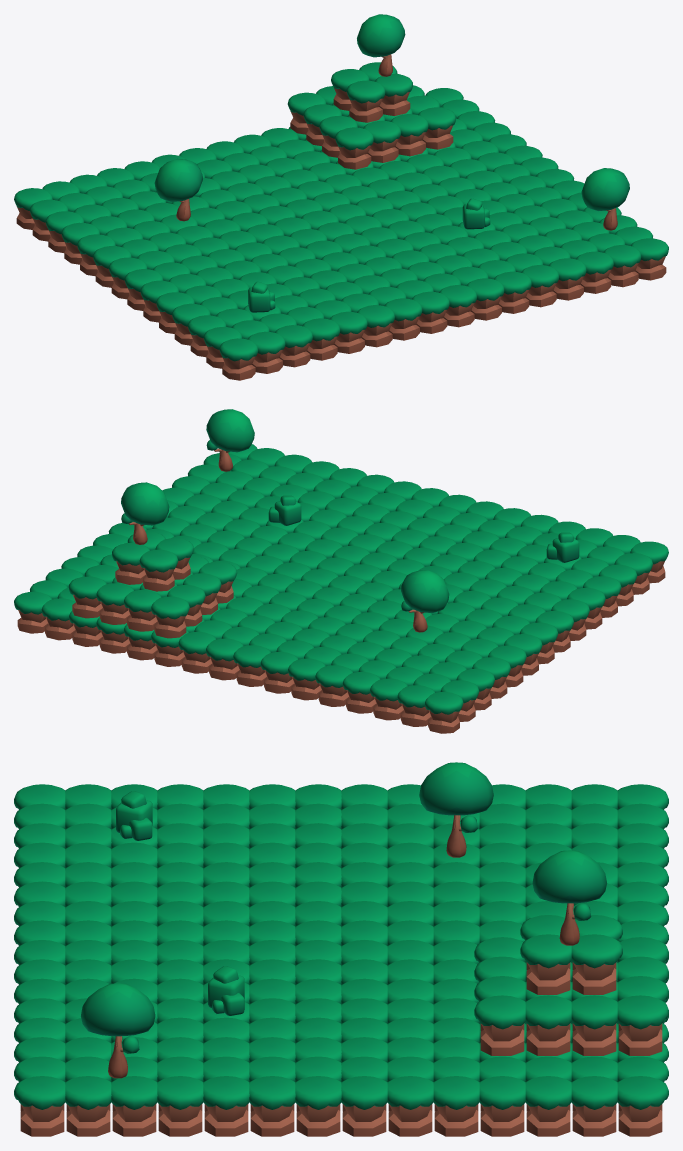
Rendered from scrubLandBiome.fbx.
3 renders of one model, top to bottom at view 1: azimuth 30°, elevation 25°; view 2: azimuth 150°, elevation 25°; view 3: azimuth 270°, elevation 25°, orthographic. The views are drawn at different scales.
Parts seen in each view (by area): view 1: Tree_1_A_Color2.001, Tree_1_A_Color2.003, Tree_1_A_Color2.002, Hill_2x2x2_Color2.297, Hill_2x2x2_Color2.305, Hill_2x2x2_Color2.216, Hill_2x2x2_Color2.303, Hill_2x2x2_Color2.189, Hill_2x2x2_Color2.267, Hill_2x2x2_Color2.273, Hill_2x2x2_Color2.298, Hill_2x2x2_Color2.144 (+32 smaller); view 2: Tree_1_A_Color2.003, Tree_1_A_Color2.002, Tree_1_A_Color2.001, Hill_2x2x2_Color2.294, Hill_2x2x2_Color2.304, Hill_2x2x2_Color2.076, Hill_2x2x2_Color2.028, Hill_2x2x2_Color2.300, Hill_2x2x2_Color2.040, Hill_2x2x2_Color2.306, Hill_2x2x2_Color2.112, Hill_2x2x2_Color2.136 (+32 smaller); view 3: Tree_1_A_Color2.001, Tree_1_A_Color2.003, Tree_1_A_Color2.002, Hill_2x2x2_Color2.028, Hill_2x2x2_Color2.189, Hill_2x2x2_Color2.300, Hill_2x2x2_Color2.303, Hill_2x2x2_Color2.306, Hill_2x2x2_Color2.024, Hill_2x2x2_Color2.025, Hill_2x2x2_Color2.026, Hill_2x2x2_Color2.029 (+188 smaller).
Part boxes in pixels (box(x1,y1,x2,y2)): Tree_1_A_Color2.001: box(154, 158, 202, 221); Tree_1_A_Color2.003: box(357, 14, 405, 76); Tree_1_A_Color2.002: box(581, 168, 629, 230); Hill_2x2x2_Color2.297: box(335, 127, 373, 169); Hill_2x2x2_Color2.305: box(346, 80, 385, 122); Hill_2x2x2_Color2.216: box(219, 338, 257, 380); Hill_2x2x2_Color2.303: box(418, 107, 456, 149); Hill_2x2x2_Color2.189: box(631, 238, 668, 280); Hill_2x2x2_Color2.267: box(357, 305, 394, 347); Hill_2x2x2_Color2.273: box(302, 318, 340, 360); Hill_2x2x2_Color2.298: box(363, 120, 401, 162); Hill_2x2x2_Color2.144: box(439, 285, 476, 327); Tree_1_A_Color2.003: box(121, 482, 169, 544); Tree_1_A_Color2.002: box(206, 409, 254, 471); Tree_1_A_Color2.001: box(401, 570, 449, 632); Hill_2x2x2_Color2.294: box(151, 596, 189, 638); Hill_2x2x2_Color2.304: box(139, 549, 178, 591); Hill_2x2x2_Color2.076: box(424, 692, 463, 733); Hill_2x2x2_Color2.028: box(14, 591, 51, 633); Hill_2x2x2_Color2.300: box(68, 576, 106, 618); Hill_2x2x2_Color2.040: box(178, 631, 216, 673); Hill_2x2x2_Color2.306: box(112, 543, 149, 584); Hill_2x2x2_Color2.112: box(370, 678, 407, 720); Hill_2x2x2_Color2.136: box(288, 658, 325, 700); Tree_1_A_Color2.001: box(419, 762, 493, 857); Tree_1_A_Color2.003: box(532, 850, 606, 945); Tree_1_A_Color2.002: box(81, 983, 155, 1078); Hill_2x2x2_Color2.028: box(617, 1076, 668, 1136); Hill_2x2x2_Color2.189: box(14, 1076, 65, 1136); Hill_2x2x2_Color2.300: box(617, 995, 668, 1055); Hill_2x2x2_Color2.303: box(474, 995, 525, 1055); Hill_2x2x2_Color2.306: box(571, 934, 622, 994); Hill_2x2x2_Color2.024: box(525, 1076, 571, 1136); Hill_2x2x2_Color2.025: box(479, 1076, 525, 1136); Hill_2x2x2_Color2.026: box(433, 1076, 479, 1136); Hill_2x2x2_Color2.029: box(571, 1076, 617, 1136).
Bounding box in the file's own units: 3250 × 1016 × 2850.
